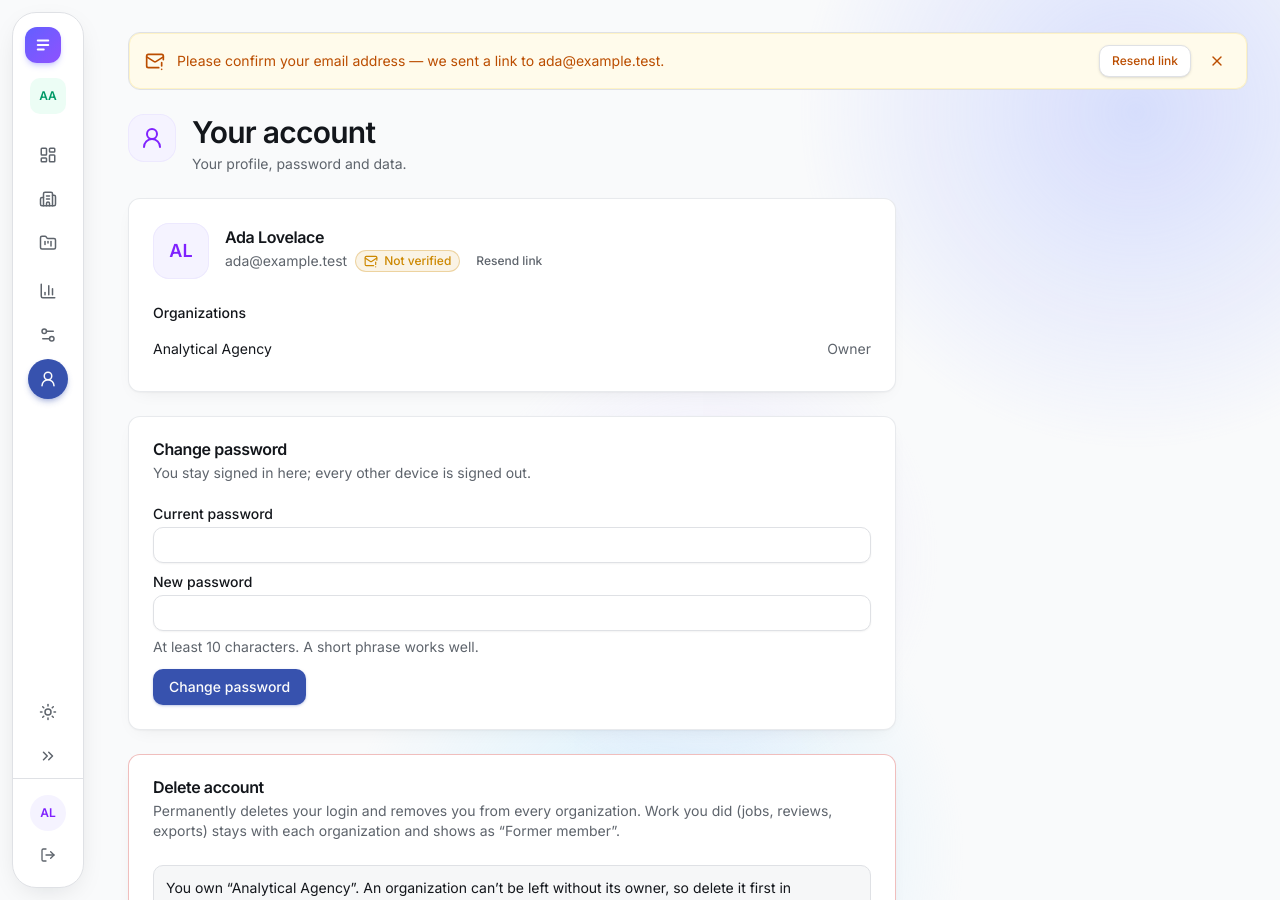
Test: email status on the account page › shows "Not verified" with a way to resend the link
Expected: the text "Not verified" is shown, left=355, top=250, right=460, bottom=272
Click the button "Resend link" next to "Not verified": coordinates (509, 261) left=468, top=249, right=550, bottom=273
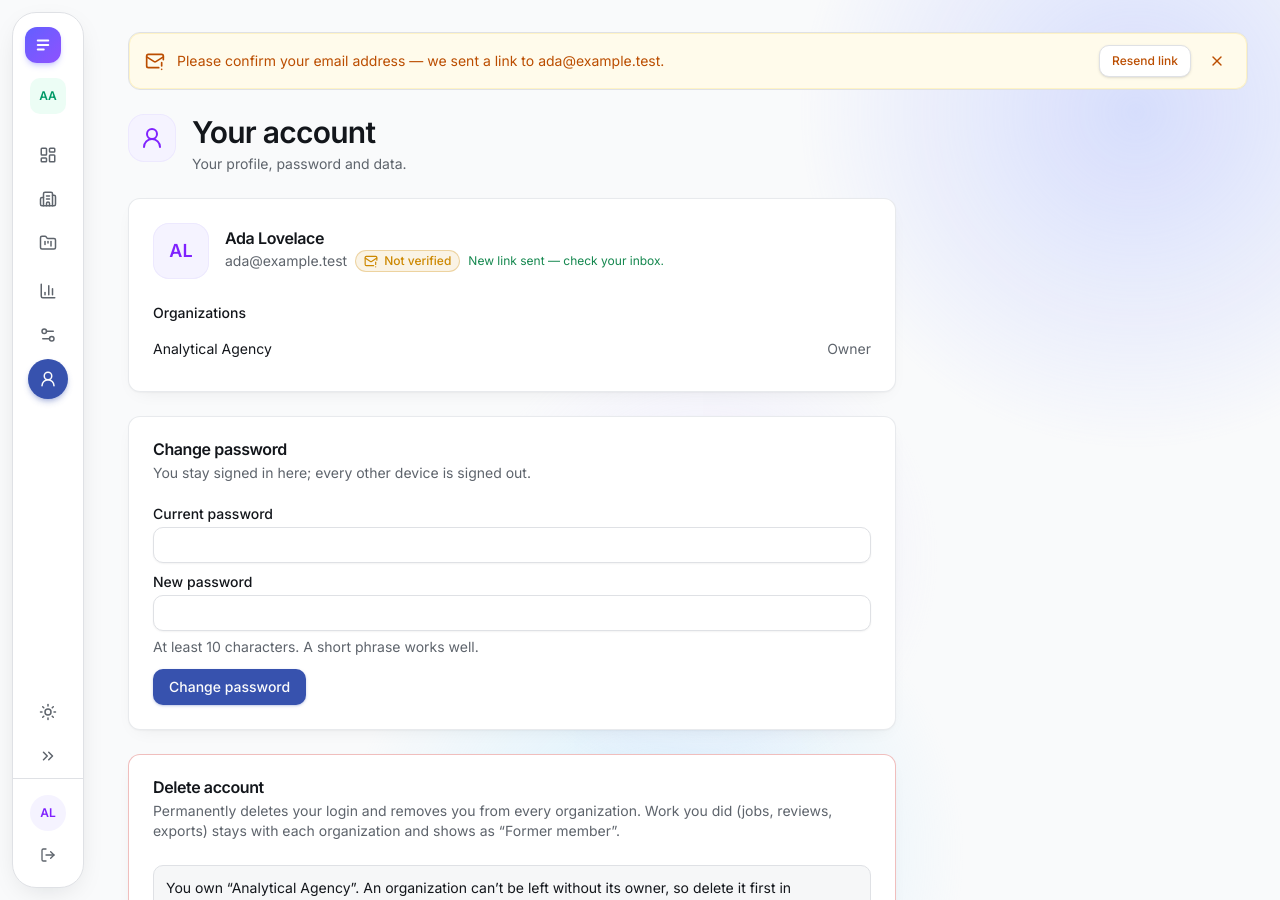
Now the text "New link sent — check your inbox." is shown, box left=468, top=253, right=664, bottom=269
